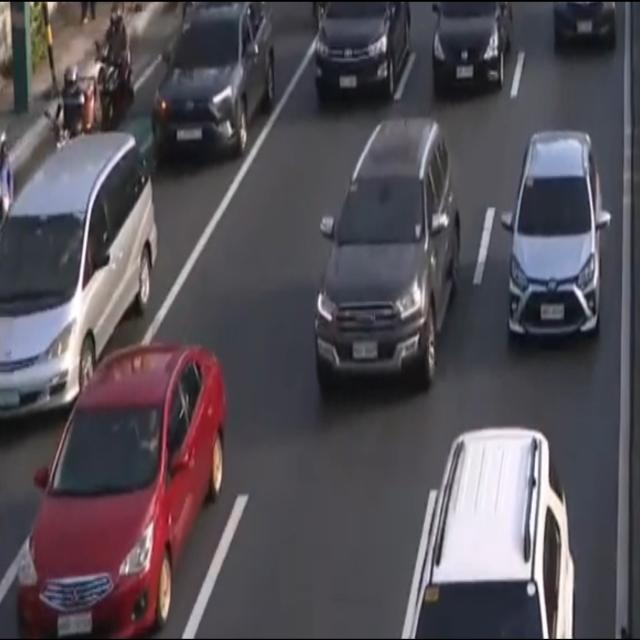Motorcycle: (99, 0, 139, 143), (49, 43, 102, 139)
SUV: (0, 124, 164, 433), (299, 105, 460, 408), (384, 410, 585, 640), (153, 0, 287, 176), (309, 0, 418, 102)
Sedan: (12, 320, 231, 639), (494, 110, 616, 349), (429, 0, 524, 106)
